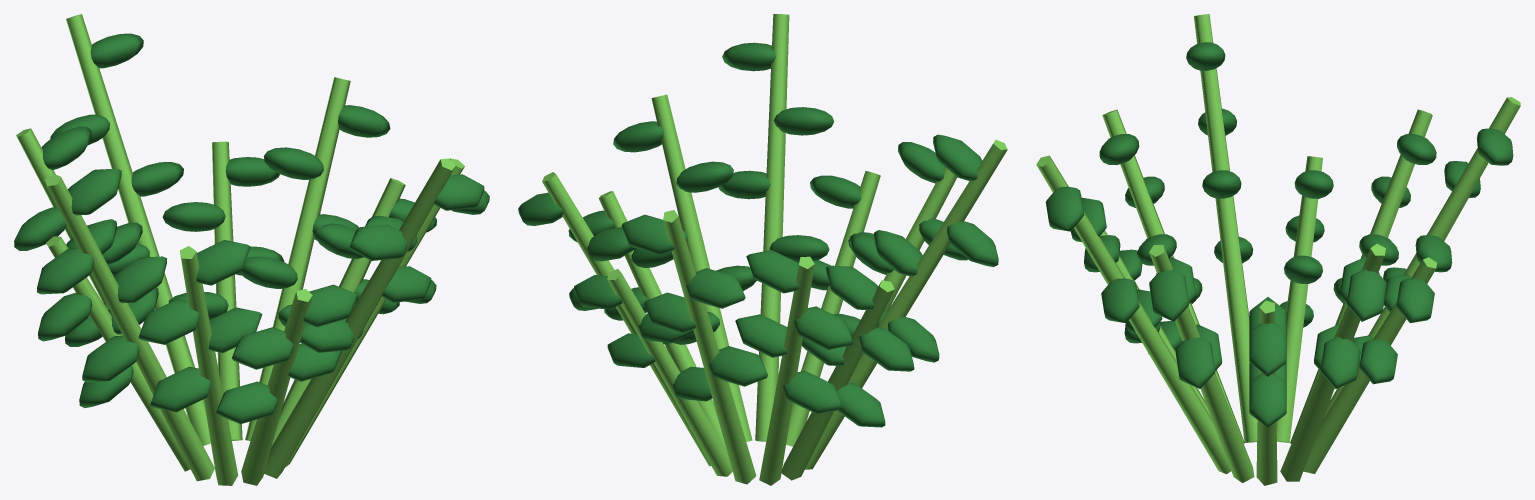
File: mizuna-plant.glb
3 views of the same model, side by side, from view 1: azimuth 30°, elevation 25°; view 2: azimuth 150°, elevation 25°; view 3: azimuth 270°, elevation 25° (orthographic). The views are drawn at different scales.
Visible parts, largest first — view 1: _stem-holder-leaf-dark (×11), _stem-holder-leaf-light (×11); view 2: _stem-holder-leaf-dark (×11), _stem-holder-leaf-light (×11); view 3: _stem-holder-leaf-light (×10), _stem-holder-leaf-dark (×11).
Part boxes in pixels (x1,y1,x2,y2): _stem-holder-leaf-dark (×11): (14,33,489,424); _stem-holder-leaf-light (×11): (16,14,464,485); _stem-holder-leaf-dark (×11): (518,42,998,427); _stem-holder-leaf-light (×11): (542,14,1007,485); _stem-holder-leaf-light (×10): (1036,14,1520,485); _stem-holder-leaf-dark (×11): (1045,42,1513,427).
Bounding box in the file's own units: 0.3308 × 0.2703 × 0.3378.
